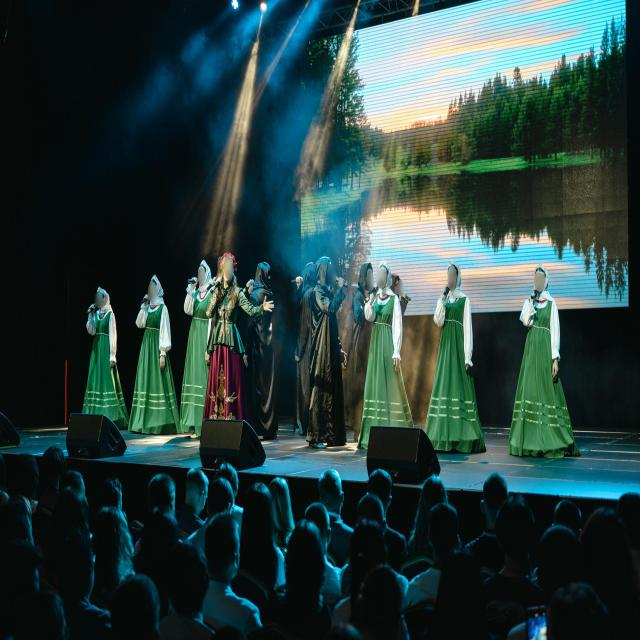Person: (366, 260, 432, 462), (514, 265, 578, 460), (430, 259, 482, 462), (130, 261, 178, 464), (307, 251, 348, 449), (76, 279, 124, 436), (212, 247, 250, 438), (248, 261, 286, 439), (190, 257, 224, 428), (358, 254, 377, 310)
